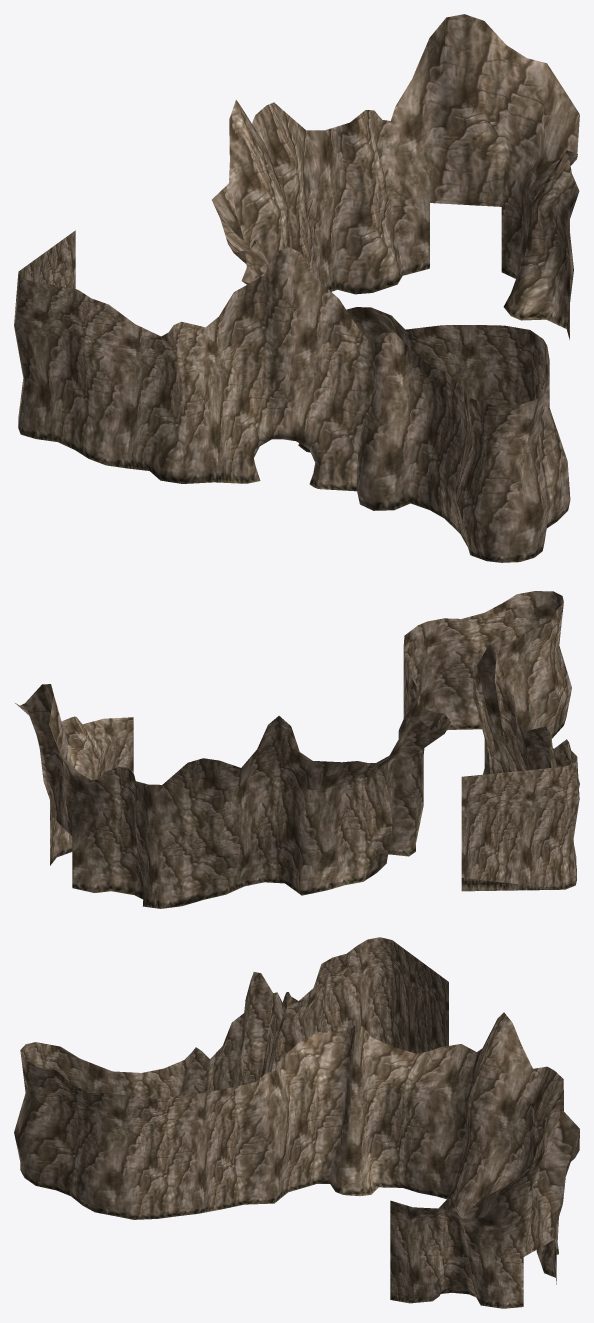
Rendered from OVERHILL_A_01_OH_B_OBJECT11.fbx.
3 renders of one model, top to bottom at view 1: azimuth 30°, elevation 25°; view 2: azimuth 150°, elevation 25°; view 3: azimuth 270°, elevation 25°, orthographic. The views are drawn at different scales.
Visible parts, largest first — view 1: OVERHILL_A_01_OH_B_OBJECT11; view 2: OVERHILL_A_01_OH_B_OBJECT11; view 3: OVERHILL_A_01_OH_B_OBJECT11.
Part boxes in pixels (box(x1,y1,x2,y2)): OVERHILL_A_01_OH_B_OBJECT11: box(14, 14, 579, 562); OVERHILL_A_01_OH_B_OBJECT11: box(15, 591, 579, 908); OVERHILL_A_01_OH_B_OBJECT11: box(14, 937, 579, 1308).
Bounding box in the file's own units: 335865 × 127596 × 342569.
Materials: 2 (2 with a texture image).
